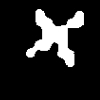single_crochet: (26, 9, 83, 66)
